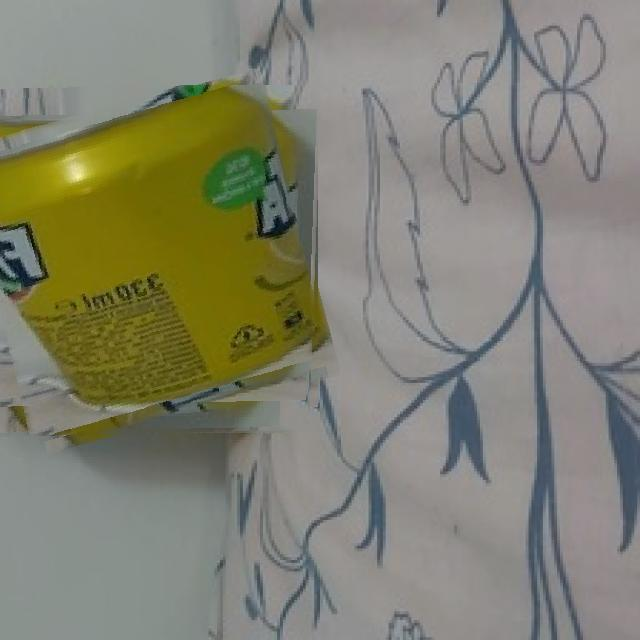recyclable: (0, 85, 322, 437)
